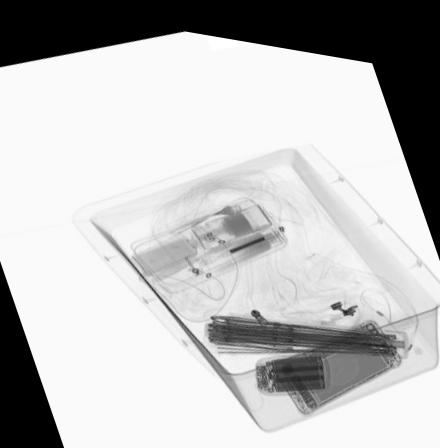Powerbank: (254, 341, 332, 385)
